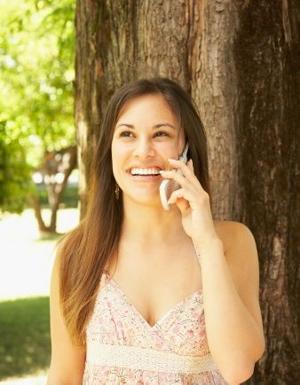person: (46, 77, 266, 385)
